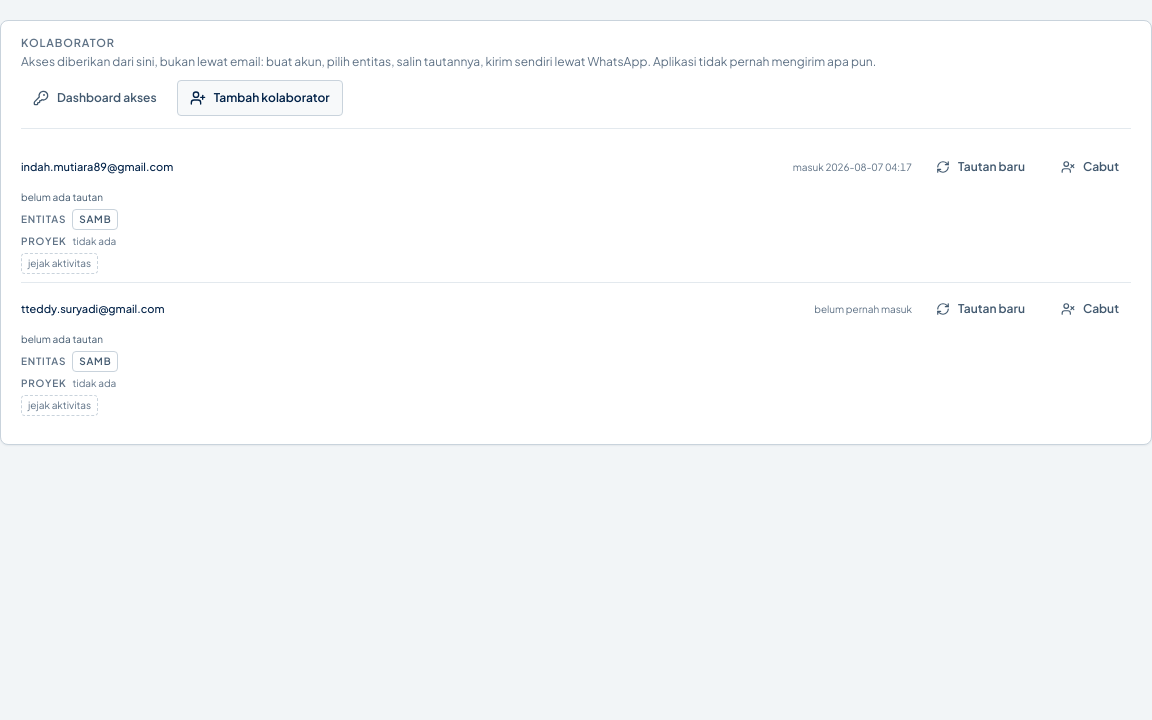
Test: the sign-in log table does not exist yet (42P01) › renders the screen normally, omits the log, and says nothing to the console
Check: the text "tteddy.suryadi@gmail.com" is shown, box [21, 302, 165, 315]
Check: the number of buttons "Tautan baru" is 2, box [924, 149, 1037, 185]; [924, 291, 1037, 327]
Click the button "jejak aktivitas" below "indah.mutiara89@gmail.com" at [60, 264], box [21, 253, 98, 274]
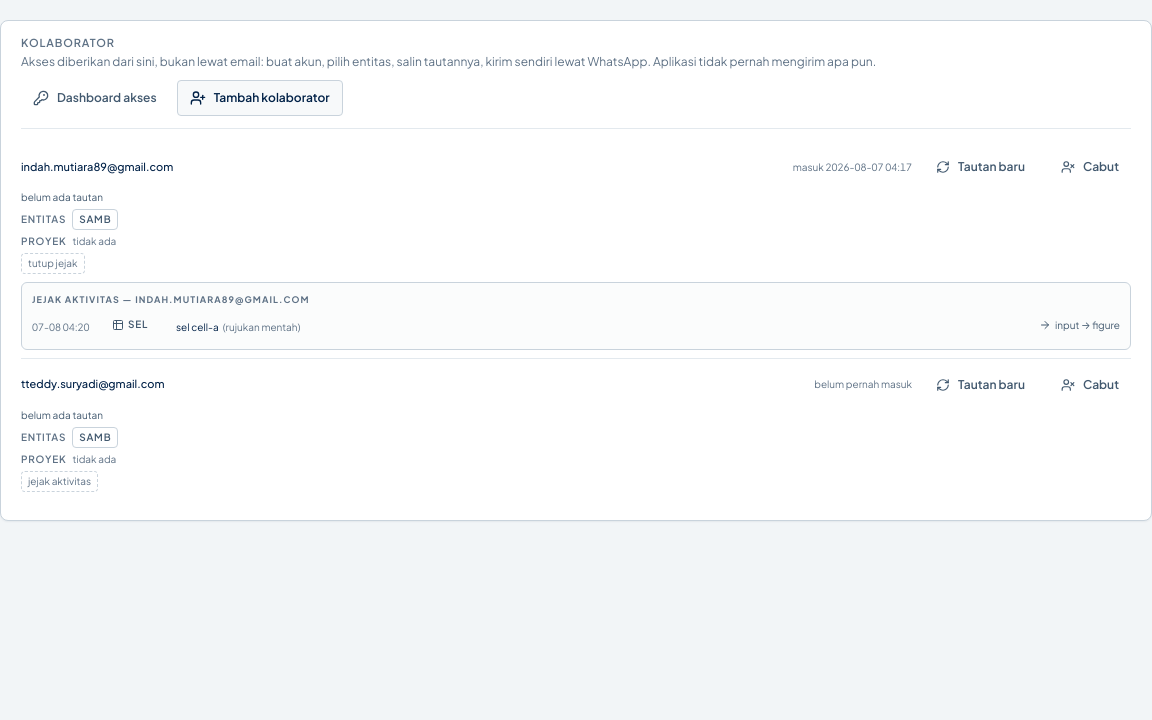
Check: the text "sel cell-a(rujukan mentah)" is shown, box [176, 320, 300, 332]
